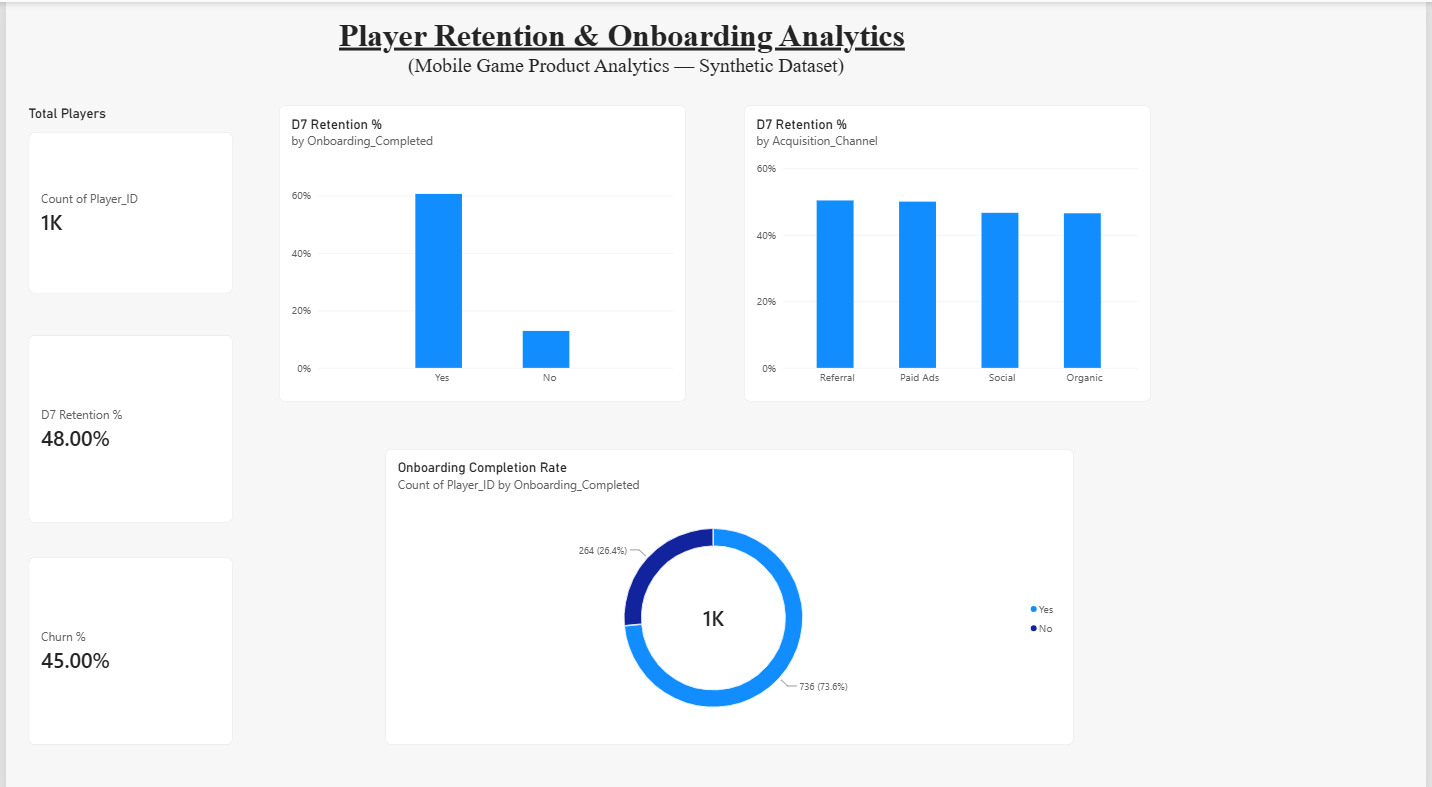

The page's visual inventory and layout, read from the dashboard file:
{"tool":"powerbi","page":{"name":"Page 1","canvas":[1920,1080],"ordinal":0},"visuals":[{"type":"cardVisual","title":"Total Players","fields":{"Data":["CountNonNull(player_retention_data.Player_ID)"]},"box":[30,140,276,254],"z":0},{"type":"cardVisual","fields":{"Data":["player_retention_data.D7 Retention %"]},"box":[30,450,276,254],"z":1000},{"type":"cardVisual","fields":{"Data":["player_retention_data.Churn %"]},"box":[30,750,276,254],"z":2000},{"type":"clusteredColumnChart","fields":{"Category":["player_retention_data.Onboarding_Completed"],"Y":["player_retention_data.D7 Retention %"]},"box":[370,140,550,400],"z":3000},{"type":"clusteredColumnChart","fields":{"Category":["player_retention_data.Acquisition_Channel"],"Y":["player_retention_data.D7 Retention %"]},"box":[998,140,550,400],"z":4000},{"type":"donutChart","title":"Onboarding Completion Rate","fields":{"Category":["player_retention_data.Onboarding_Completed"],"Y":["CountNonNull(player_retention_data.Player_ID)"]},"box":[512,604,930,400],"z":4001},{"type":"textbox","box":[450,20,1470,100],"z":4002}]}

Visuals, with their boxes in screenshot pixels (x1, y1, x2, y2), scaled from the page's 1920x1080 canvas onto the 1432x787 screenshot:
"Total Players" cardVisual: (22,102,228,287)
cardVisual - player_retention_data.D7 Retention %: (22,328,228,513)
cardVisual - player_retention_data.Churn %: (22,547,228,732)
clusteredColumnChart - player_retention_data.Onboarding_Completed x player_retention_data.D7 Retention %: (276,102,686,394)
clusteredColumnChart - player_retention_data.Acquisition_Channel x player_retention_data.D7 Retention %: (744,102,1155,394)
"Onboarding Completion Rate" donutChart: (382,440,1075,732)
textbox: (336,15,1431,87)
